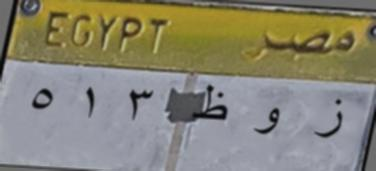1: (72, 78, 110, 125)
3: (122, 85, 157, 128)
5: (22, 78, 60, 121)
Thaa: (187, 80, 235, 128)
waw: (245, 100, 290, 150)
zay: (309, 92, 353, 148)
